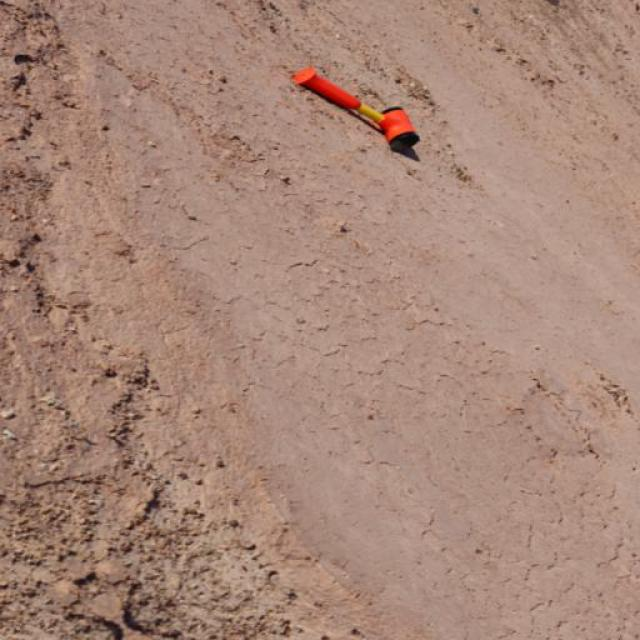mallet: (290, 64, 420, 155)
